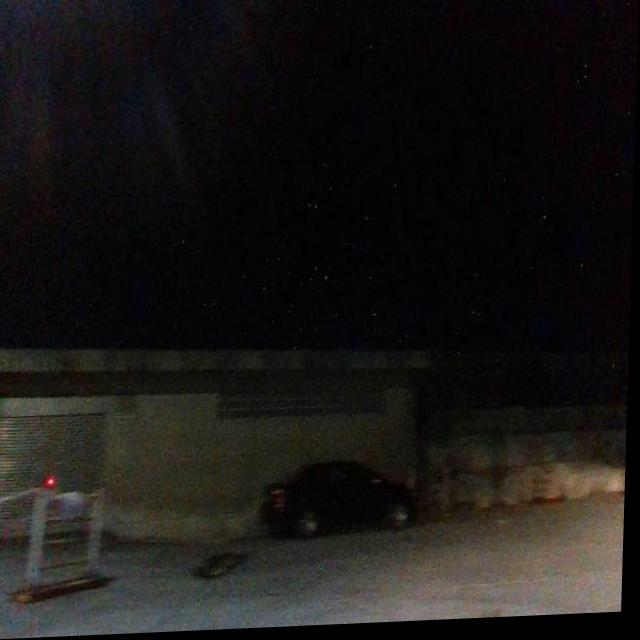pollute: (194, 548, 252, 586)
